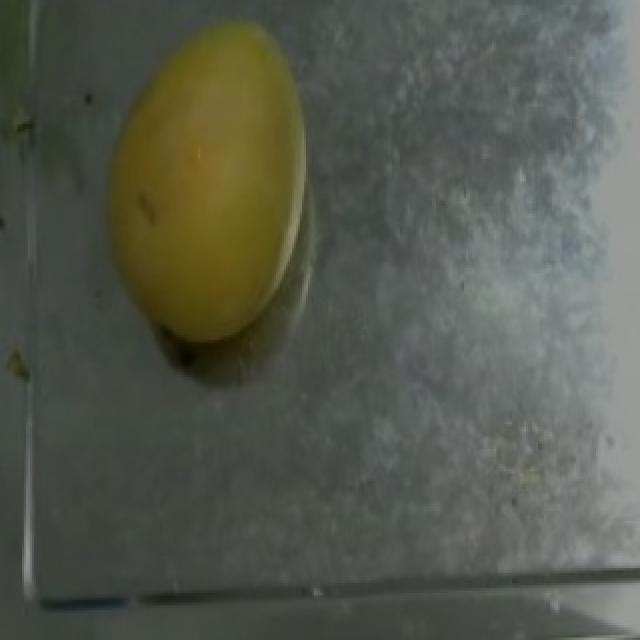fruit: (84, 0, 340, 365)
